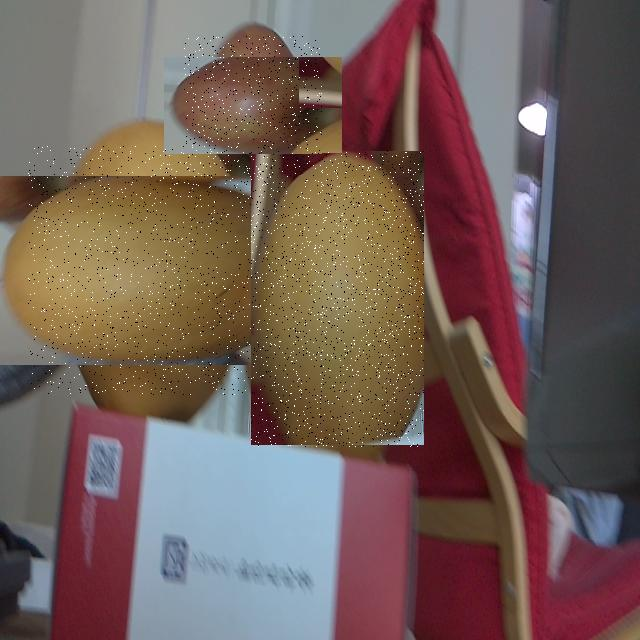apple: (184, 36, 322, 175)
pear: (28, 146, 277, 395), (251, 152, 424, 448)
